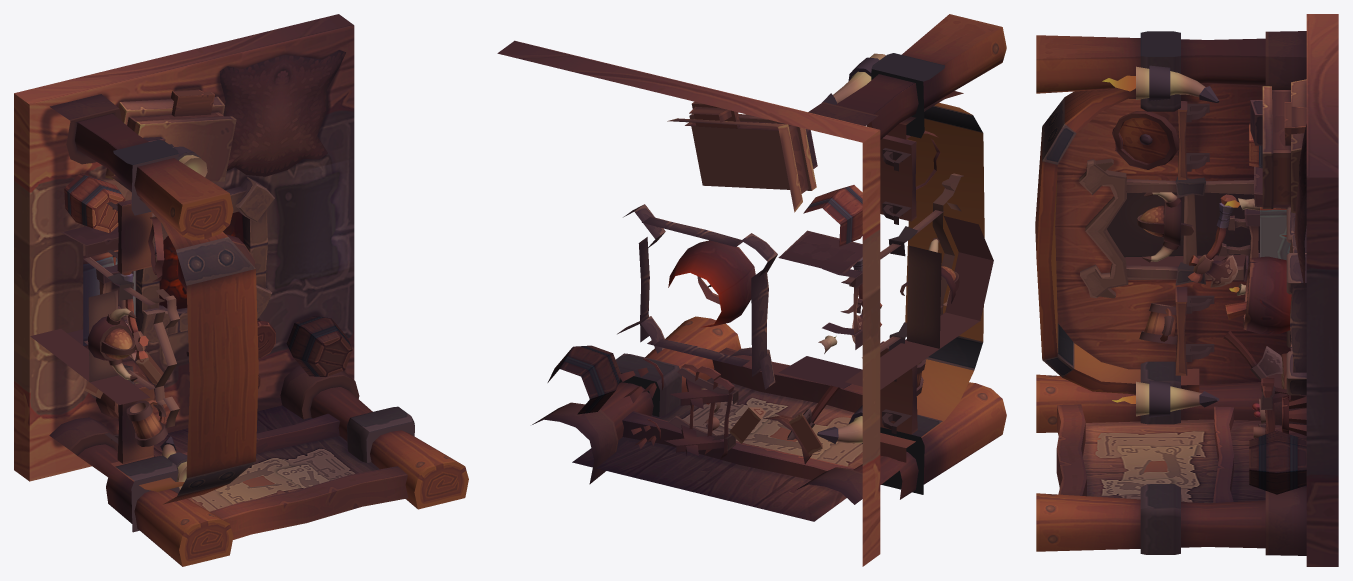
The model's file is room.gltf.
3 views of the same model, side by side, from view 1: azimuth 30°, elevation 25°; view 2: azimuth 150°, elevation 25°; view 3: azimuth 270°, elevation 25° (orthographic). The views are drawn at different scales.
Parts seen in each view (by area): view 1: mesh_all1_Texture1_0; view 2: mesh_all1_Texture1_0; view 3: mesh_all1_Texture1_0.
Boxes of the visible parts, x1,y1,x2,y2 form: mesh_all1_Texture1_0: [14, 14, 468, 566]; mesh_all1_Texture1_0: [497, 14, 1006, 566]; mesh_all1_Texture1_0: [1035, 14, 1338, 566].
Bounding box in the file's own units: 1.33 × 1.46 × 1.03.
